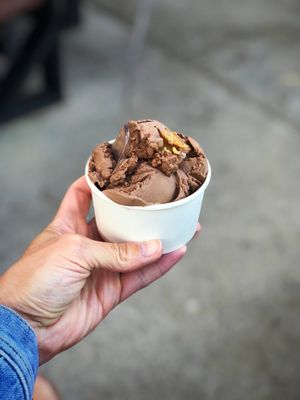pizza: (84, 119, 212, 255)
